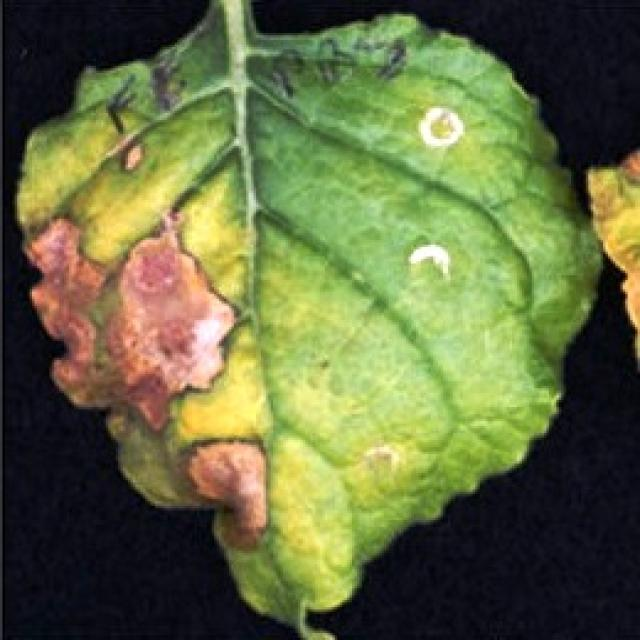Fusarium Wilt: (9, 147, 300, 533)
